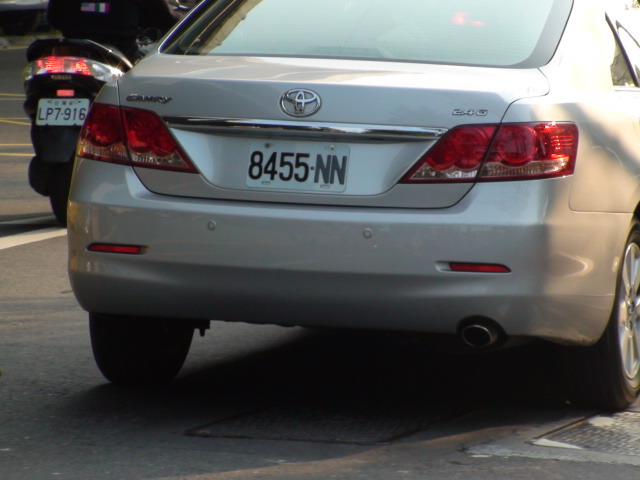plate: (248, 138, 352, 195), (34, 94, 89, 129)
